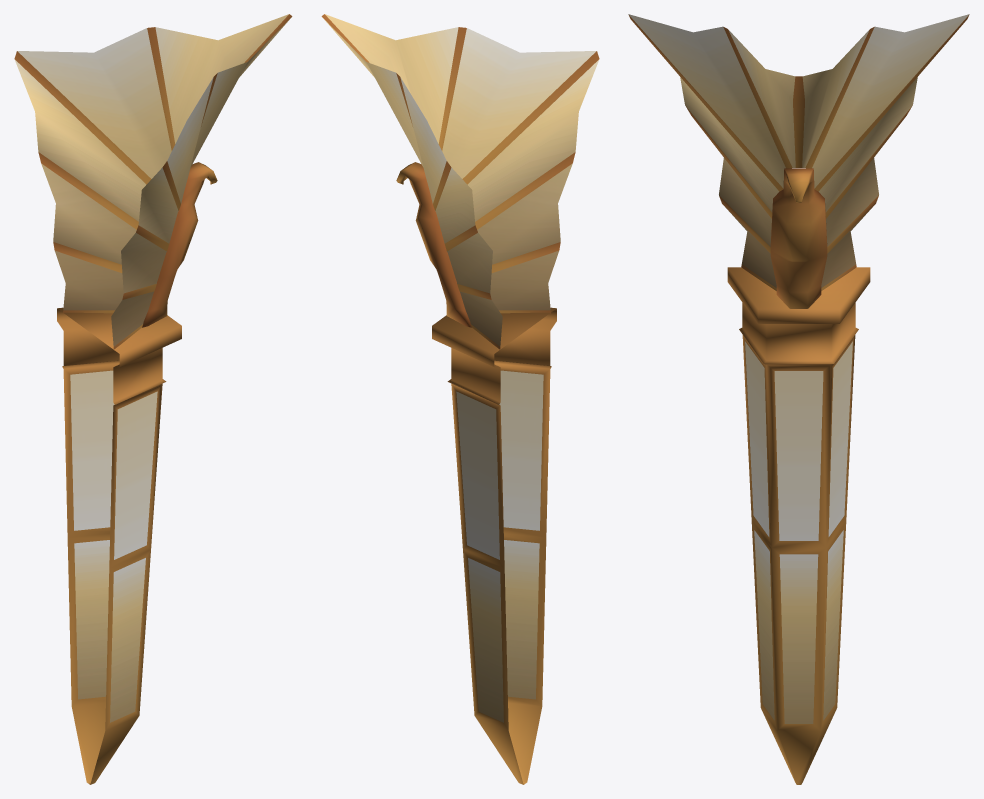
File: WallLight.fbx
3 views of the same model, side by side, from view 1: azimuth 30°, elevation 25°; view 2: azimuth 150°, elevation 25°; view 3: azimuth 270°, elevation 25° (orthographic). The views are drawn at different scales.
Parts seen in each view (by area): view 1: Cube.048; view 2: Cube.048; view 3: Cube.048.
Part boxes in pixels (x1,y1,x2,y2): Cube.048: (14, 14, 292, 784); Cube.048: (321, 14, 599, 784); Cube.048: (628, 14, 969, 784).
Size of the model in its own units: 128 by 434 by 164.
